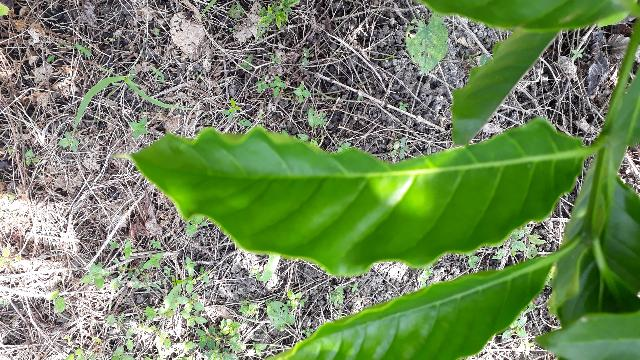healthy: (53, 85, 512, 242)
